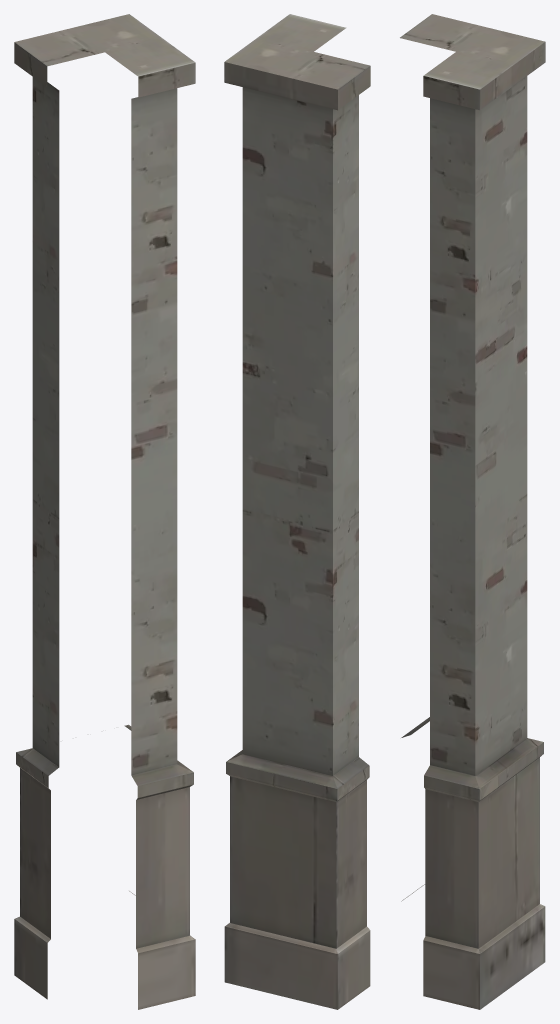
3 views of the same model, side by side, from view 1: azimuth 30°, elevation 25°; view 2: azimuth 150°, elevation 25°; view 3: azimuth 330°, elevation 25° (orthographic).
Visible parts, largest first — view 1: body0_model0_lod0_mesh0; view 2: body0_model0_lod0_mesh0; view 3: body0_model0_lod0_mesh0.
Boxes of the visible parts, x1=… form: body0_model0_lod0_mesh0: x1=14, y1=14, x2=195, y2=1009; body0_model0_lod0_mesh0: x1=224, y1=14, x2=370, y2=1009; body0_model0_lod0_mesh0: x1=400, y1=14, x2=545, y2=1009.
Size of the model in its own units: 40.12 by 311 by 40.12.
Materials: 1 (1 with a texture image).
